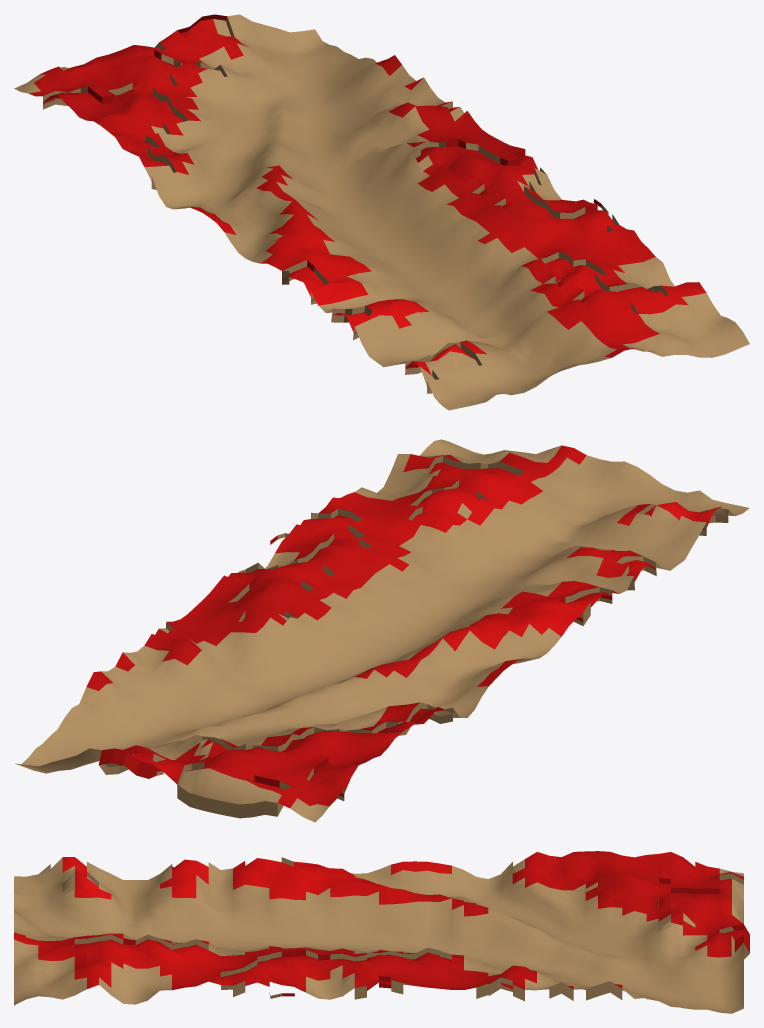
Rendered from kazan 1.FBX.
3 renders of one model, top to bottom at view 1: azimuth 30°, elevation 25°; view 2: azimuth 150°, elevation 25°; view 3: azimuth 270°, elevation 25°, orthographic. The views are drawn at different scales.
Visible parts, largest first — view 1: Plane001; view 2: Plane001; view 3: Plane001.
Part boxes in pixels (box(x1,y1,x2,y2)): Plane001: box(14, 14, 749, 410); Plane001: box(15, 439, 749, 822); Plane001: box(14, 851, 749, 1013).
Size of the model in its own units: 167 by 26.21 by 403.
